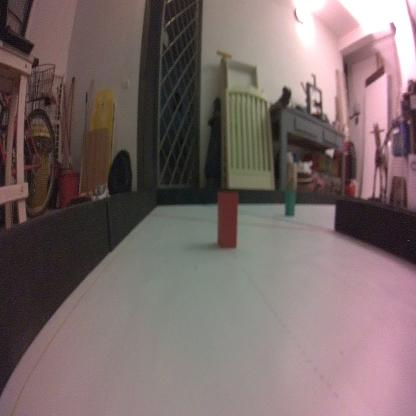green: (282, 190, 296, 219)
red: (215, 184, 240, 254)
